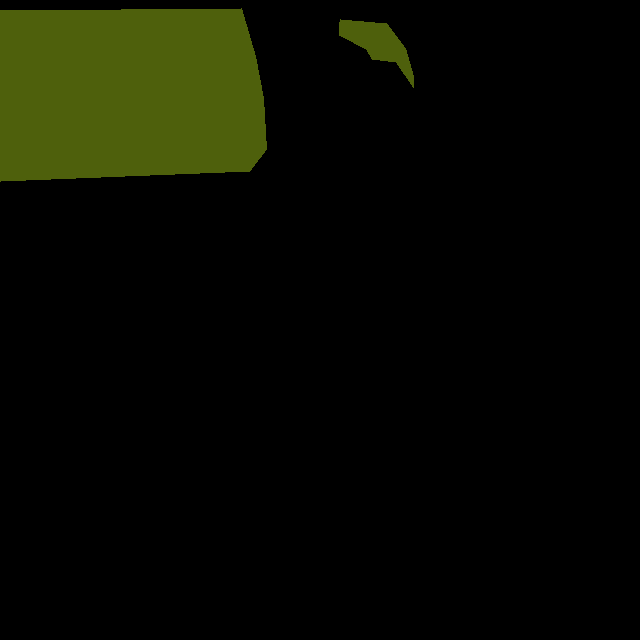Train: (0, 8, 413, 181)
